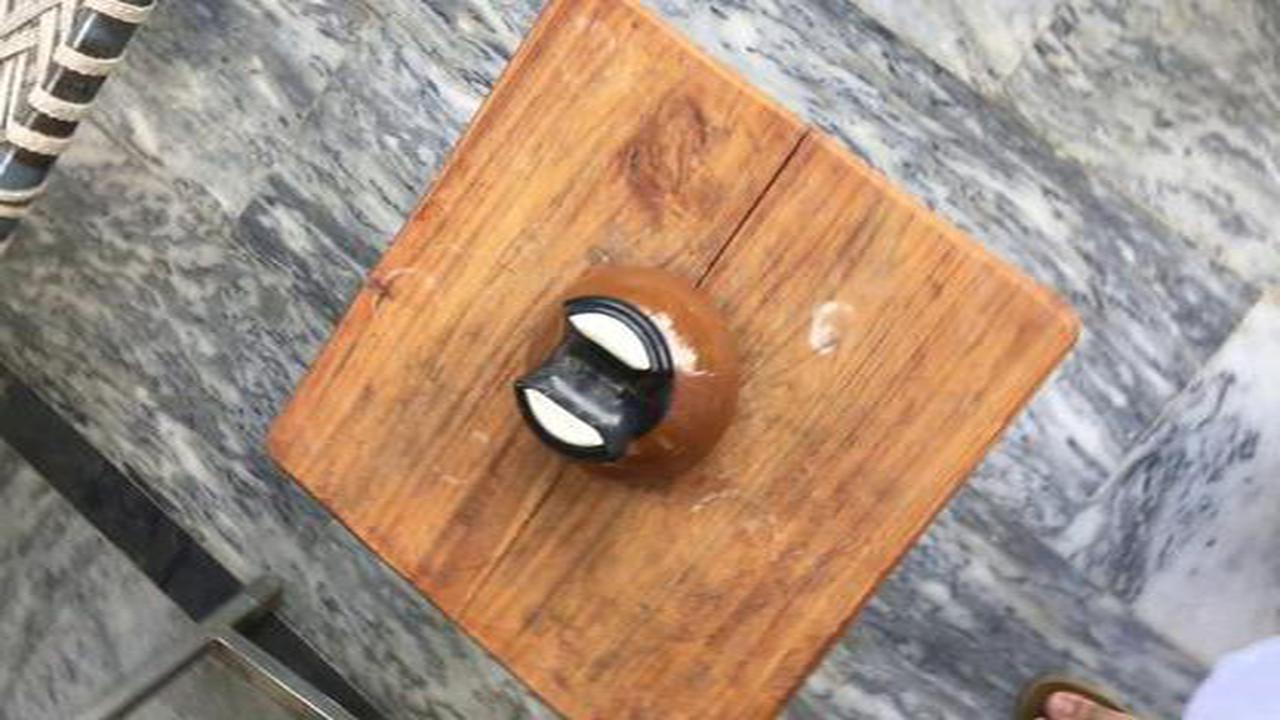insulator_pin: (490, 250, 770, 492)
